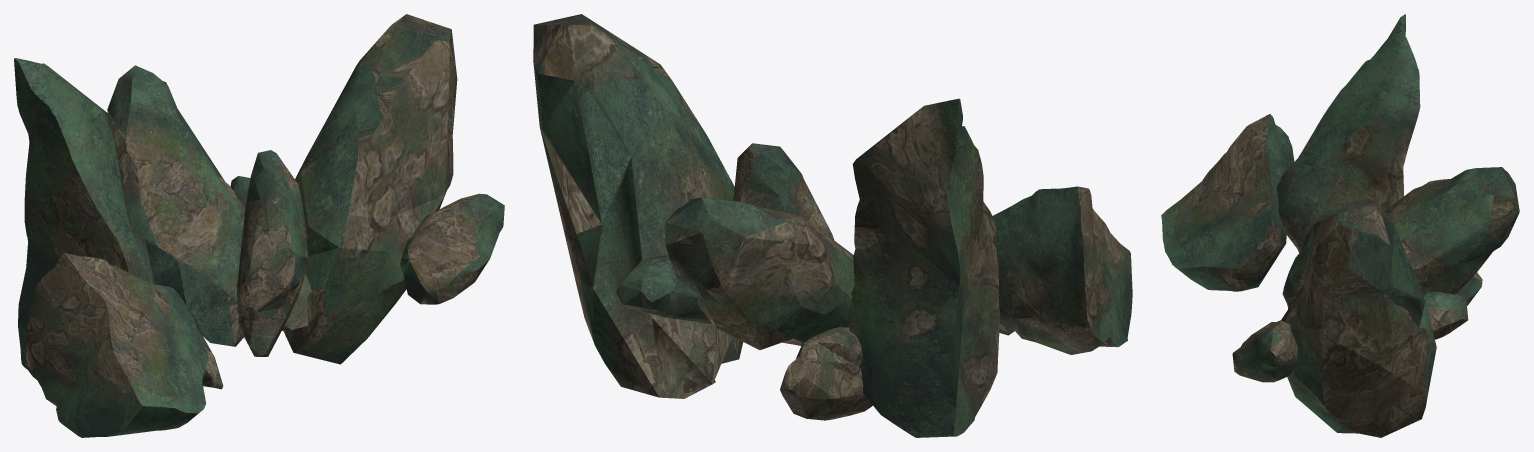
File: BrokenGround2.fbx
3 views of the same model, side by side, from view 1: azimuth 30°, elevation 25°; view 2: azimuth 150°, elevation 25°; view 3: azimuth 270°, elevation 25° (orthographic). The views are drawn at different scales.
Visible parts, largest first — view 1: SM_d_e_P0012_V00_C00_SplRgk_GroundRock_02; view 2: SM_d_e_P0012_V00_C00_SplRgk_GroundRock_02; view 3: SM_d_e_P0012_V00_C00_SplRgk_GroundRock_02.
Boxes of the visible parts, x1=… form: SM_d_e_P0012_V00_C00_SplRgk_GroundRock_02: x1=14, y1=14, x2=504, y2=437; SM_d_e_P0012_V00_C00_SplRgk_GroundRock_02: x1=533, y1=14, x2=1132, y2=437; SM_d_e_P0012_V00_C00_SplRgk_GroundRock_02: x1=1161, y1=14, x2=1519, y2=437.
Bounding box in the file's own units: 71.22 × 50.69 × 55.15.
